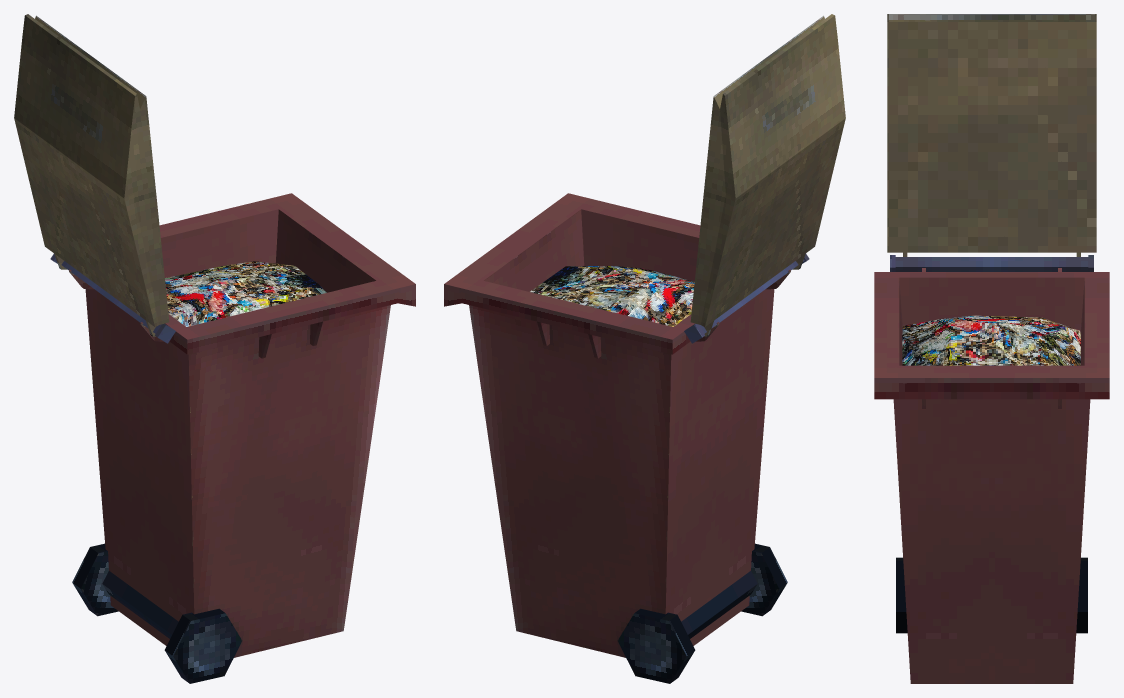
Rendered from trash_can_alt2_full.glb.
3 views of the same model, side by side, from view 1: azimuth 30°, elevation 25°; view 2: azimuth 150°, elevation 25°; view 3: azimuth 270°, elevation 25° (orthographic). The views are drawn at different scales.
Parts seen in each view (by area): view 1: trash_can_alt2_full; view 2: trash_can_alt2_full; view 3: trash_can_alt2_full.
Boxes of the visible parts, <box> form: trash_can_alt2_full: <box>14,14,415,683</box>; trash_can_alt2_full: <box>444,14,845,683</box>; trash_can_alt2_full: <box>874,14,1109,683</box>.
Size of the model in its own units: 1.03 by 2.1 by 0.7794.
2 materials, 2 textured.
